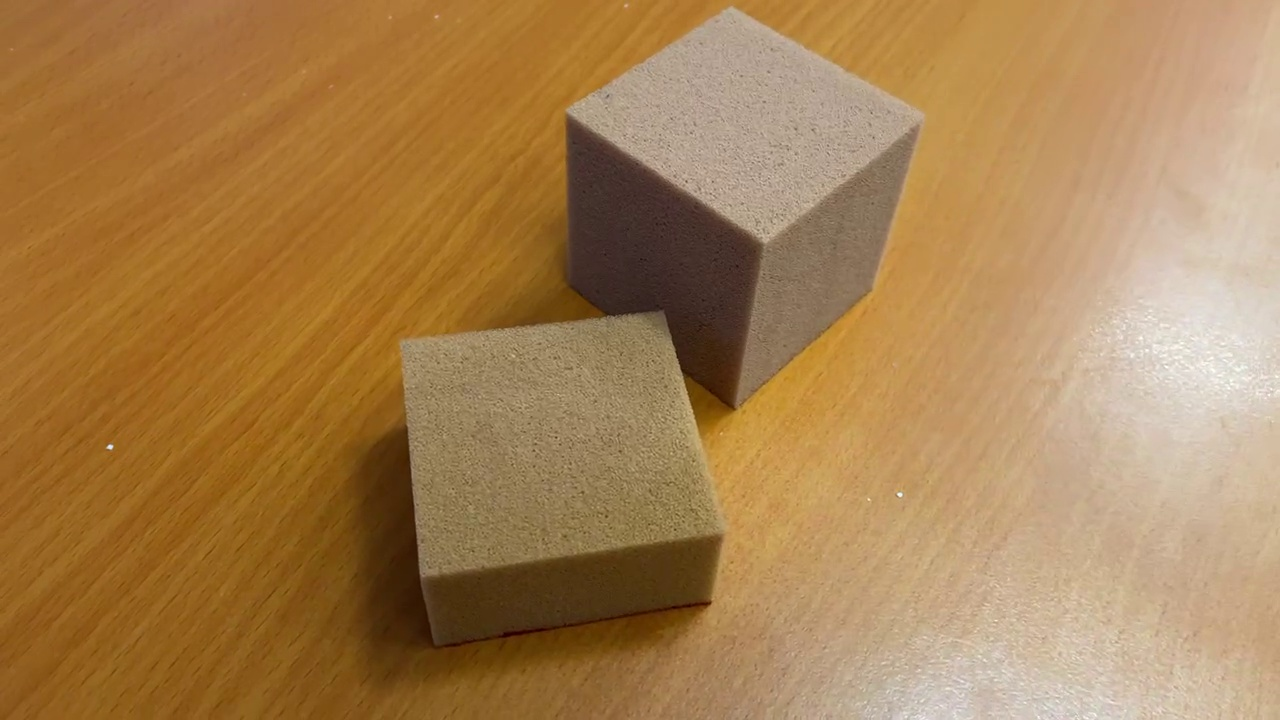Cube: (563, 1, 925, 419)
Cube_short: (382, 299, 728, 655)
